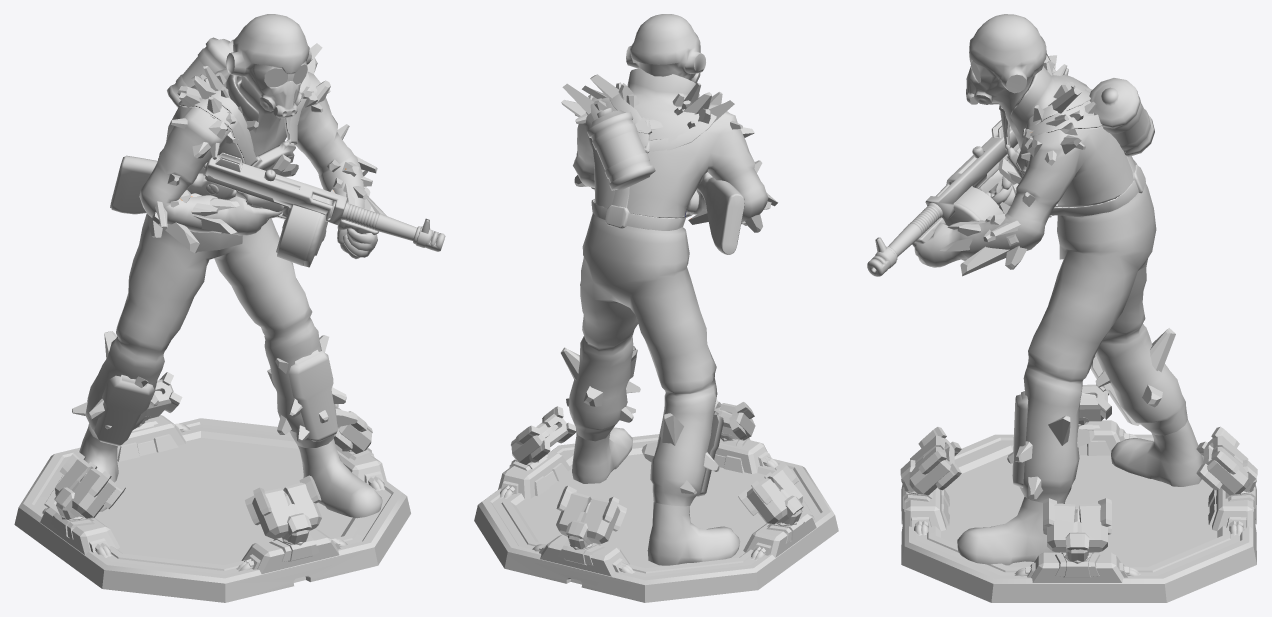
File: SMGCorruptedBotSpawner.glb
The picture shows the model from 3 angles, left to right: view 1: azimuth 30°, elevation 25°; view 2: azimuth 150°, elevation 25°; view 3: azimuth 270°, elevation 25°; orthographic projection. The views are drawn at different scales.
Visible parts, largest first — view 1: SMGCorruptedBotSpawnerHologram; view 2: SMGCorruptedBotSpawnerHologram; view 3: SMGCorruptedBotSpawnerHologram.
Part boxes in pixels (bbox=[...]): SMGCorruptedBotSpawnerHologram: bbox=[14, 14, 445, 602]; SMGCorruptedBotSpawnerHologram: bbox=[474, 14, 838, 602]; SMGCorruptedBotSpawnerHologram: bbox=[867, 14, 1257, 602].
Bounding box in the file's own units: 1.08 × 1.74 × 1.18.
Materials: 4 (3 with a texture image).
